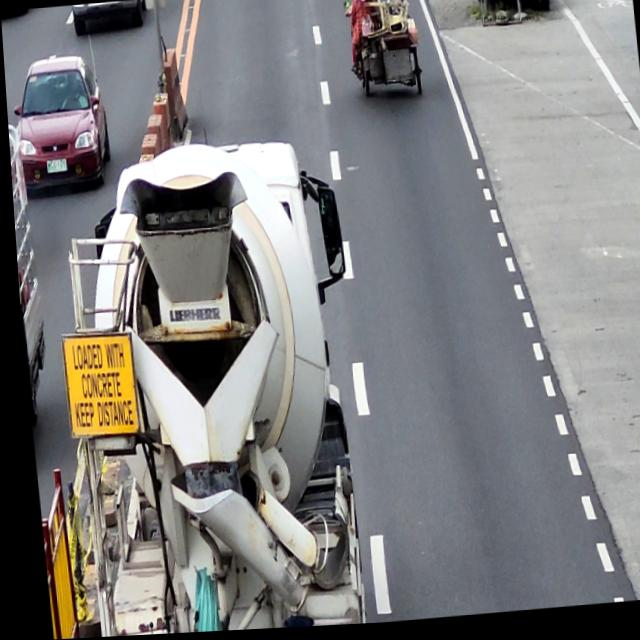Tricycle: (341, 0, 426, 106)
Truck: (37, 129, 377, 639)
